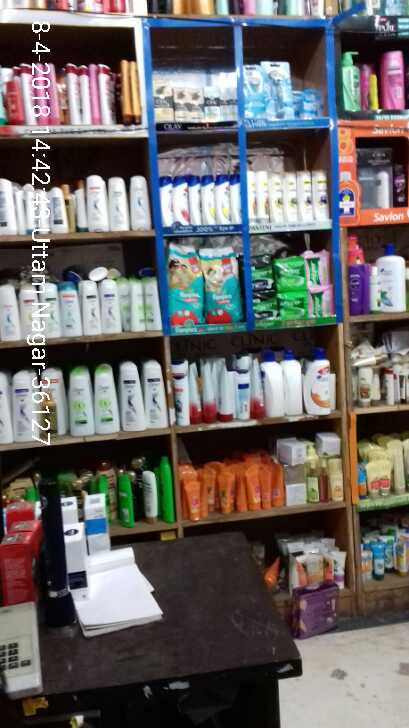venus: (266, 60, 294, 119), (245, 64, 264, 119), (295, 90, 323, 119)
